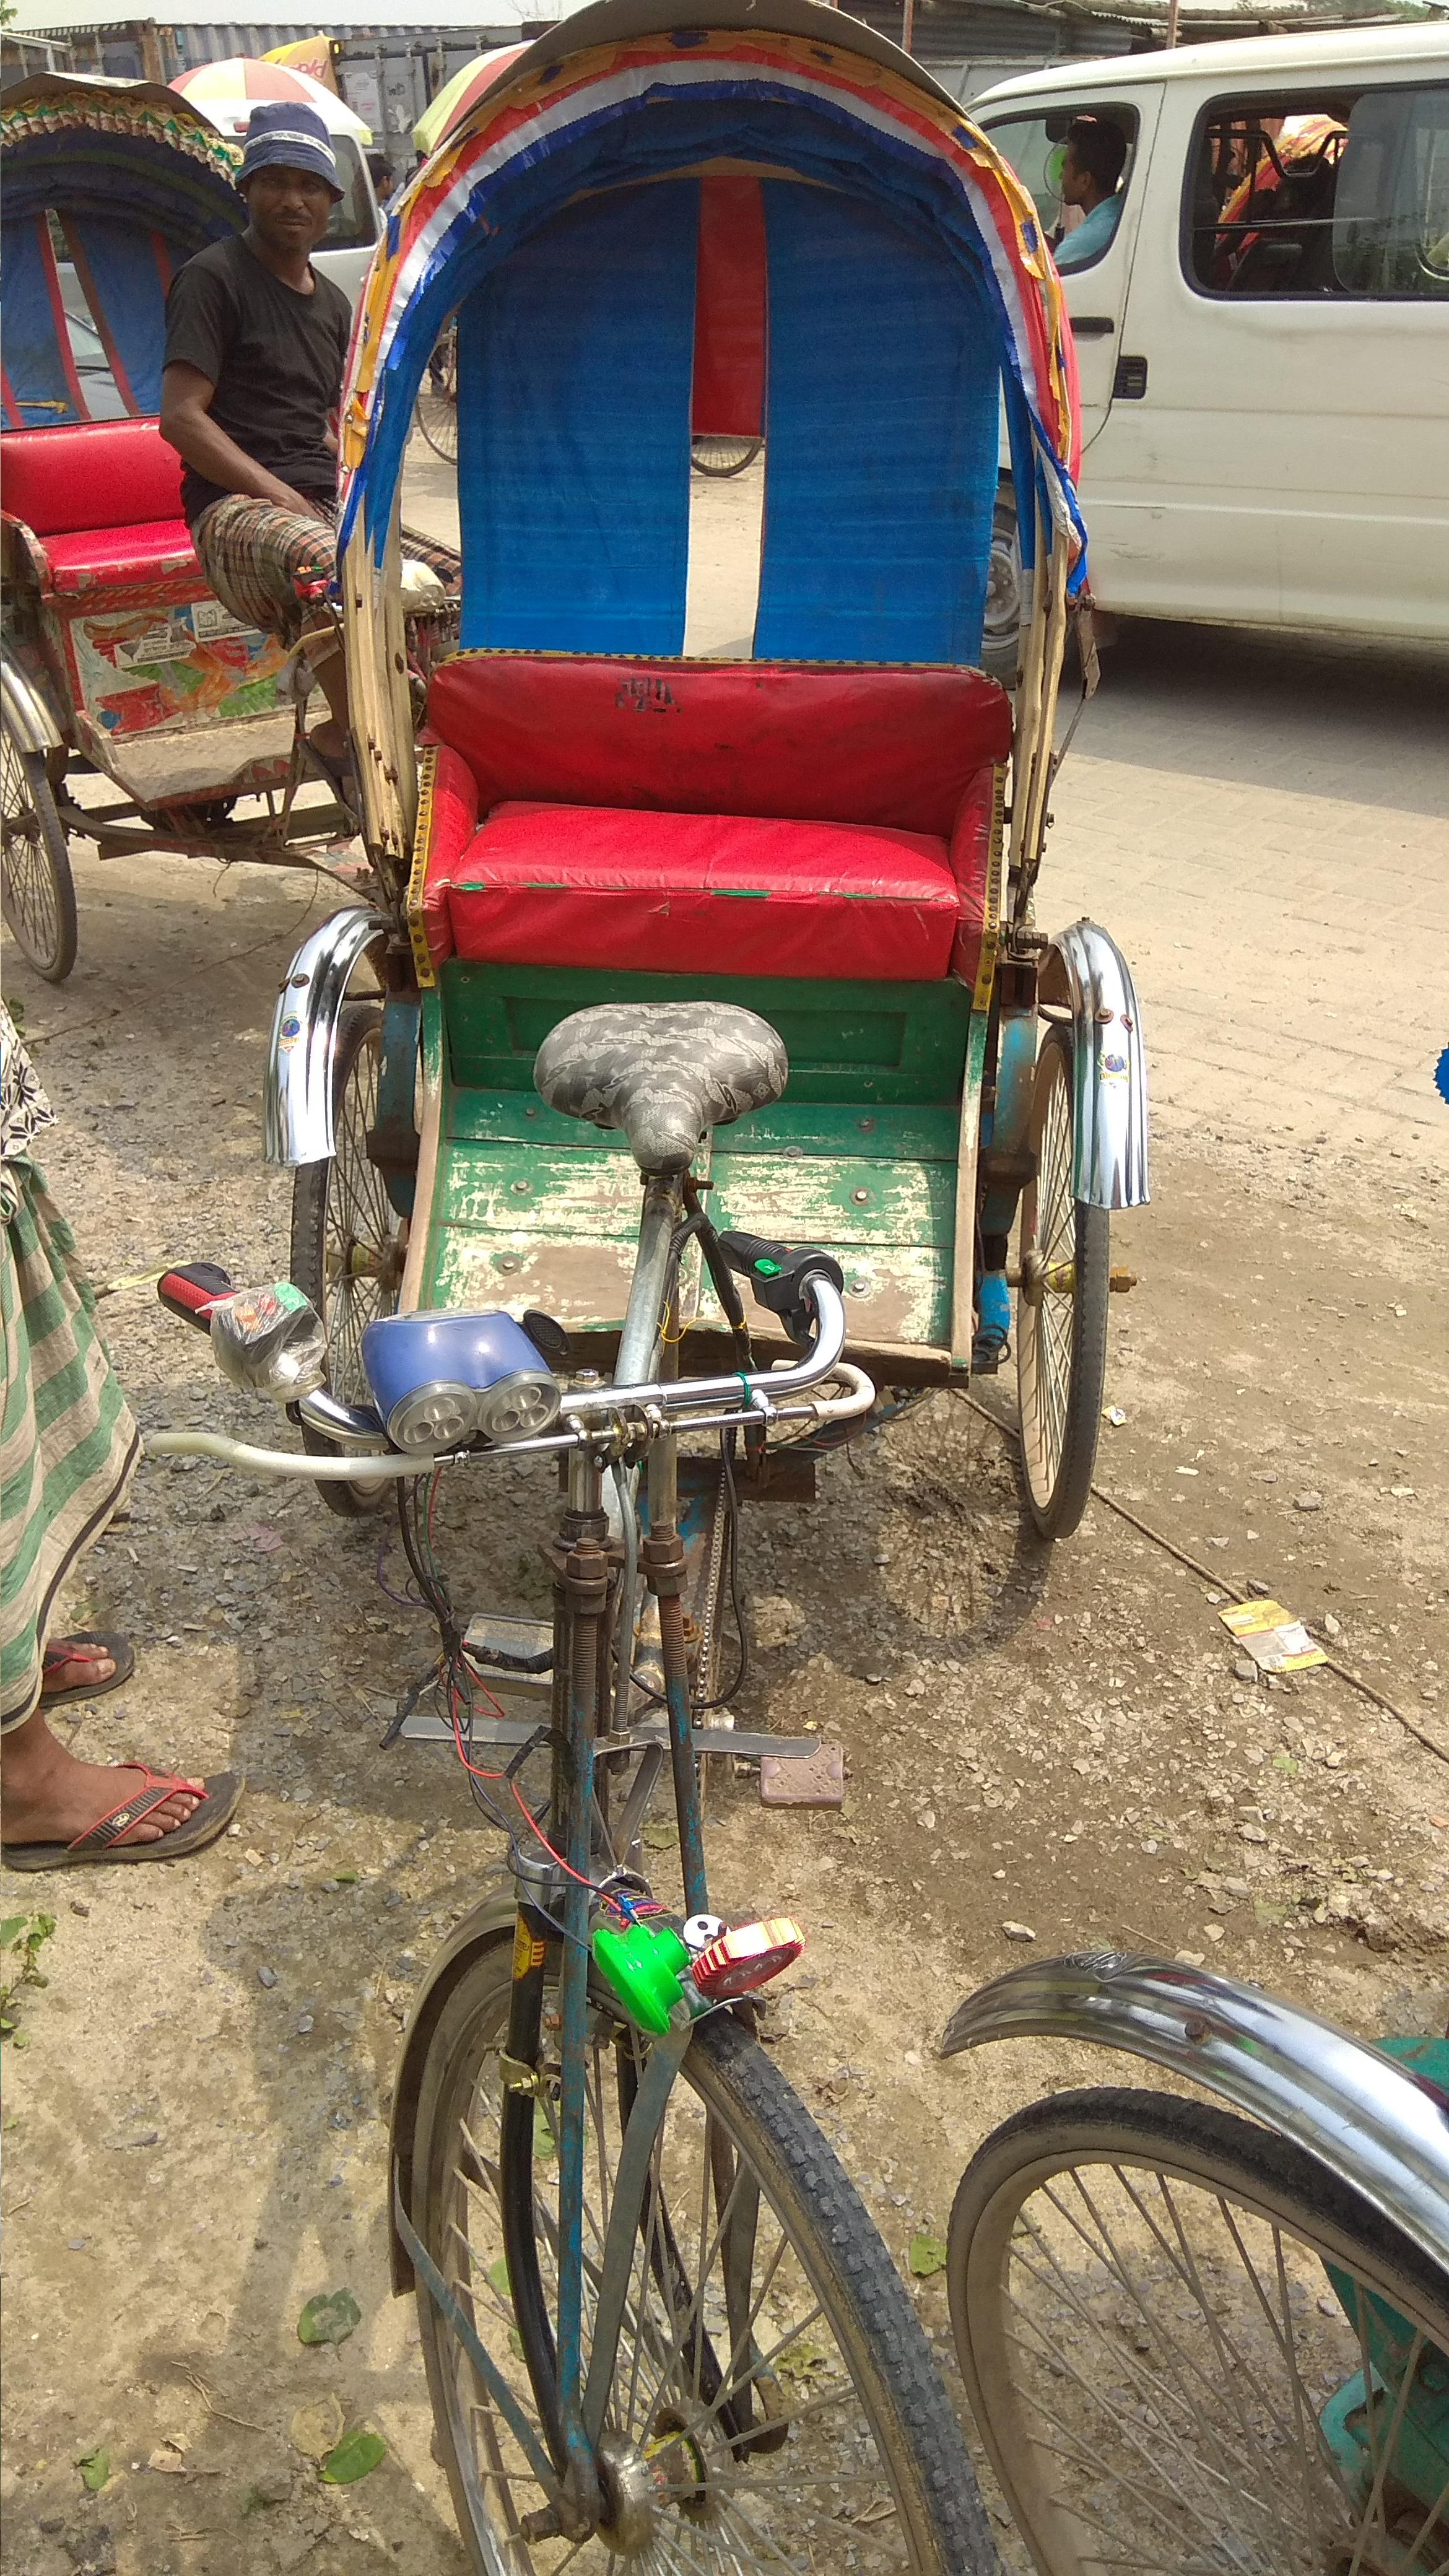Rickshaw: (327, 41, 1207, 2574), (9, 37, 444, 968)
